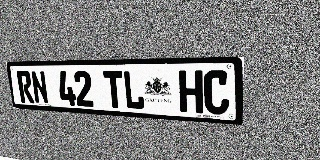2: (73, 71, 94, 107)
4: (57, 71, 77, 106)
C: (204, 70, 229, 115)
H: (179, 70, 203, 113)
L: (122, 70, 145, 110)
N: (30, 71, 49, 104)
R: (16, 71, 35, 103)
T: (103, 71, 125, 109)
